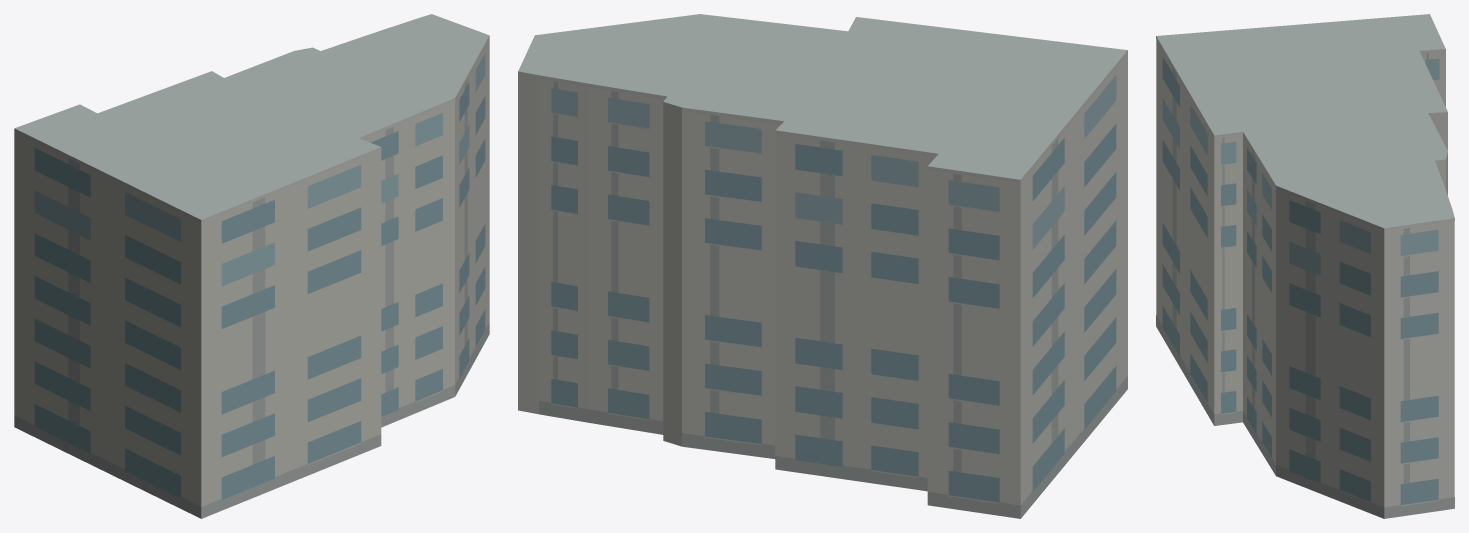
Rendered from survey-upis-32498309.glb.
3 renders of one model, left to right at view 1: azimuth 30°, elevation 25°; view 2: azimuth 150°, elevation 25°; view 3: azimuth 270°, elevation 25°, orthographic. The views are drawn at different scales.
Parts seen in each view (by area): view 1: survey-upis-32498309.tmp; view 2: survey-upis-32498309.tmp; view 3: survey-upis-32498309.tmp.
Part boxes in pixels (bbox=[...]): survey-upis-32498309.tmp: bbox=[14, 14, 489, 518]; survey-upis-32498309.tmp: bbox=[518, 14, 1127, 518]; survey-upis-32498309.tmp: bbox=[1156, 14, 1454, 518].
Bounding box in the file's own units: 35.44 × 22.4 × 20.87.
